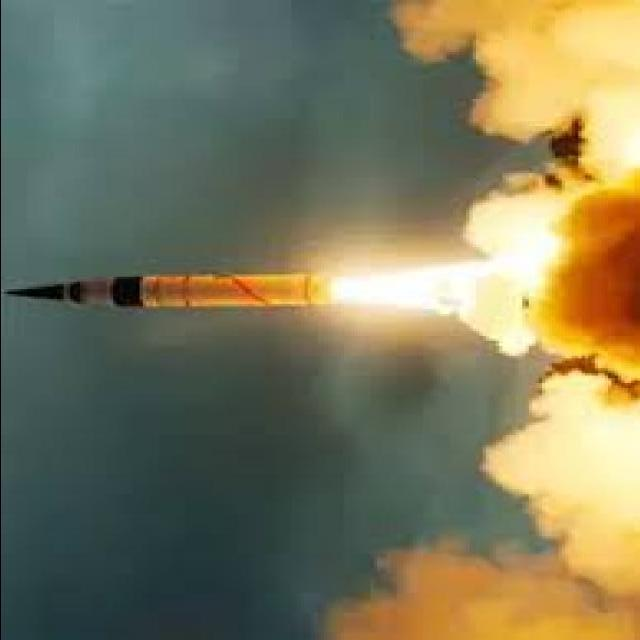missile: (2, 258, 340, 329)
